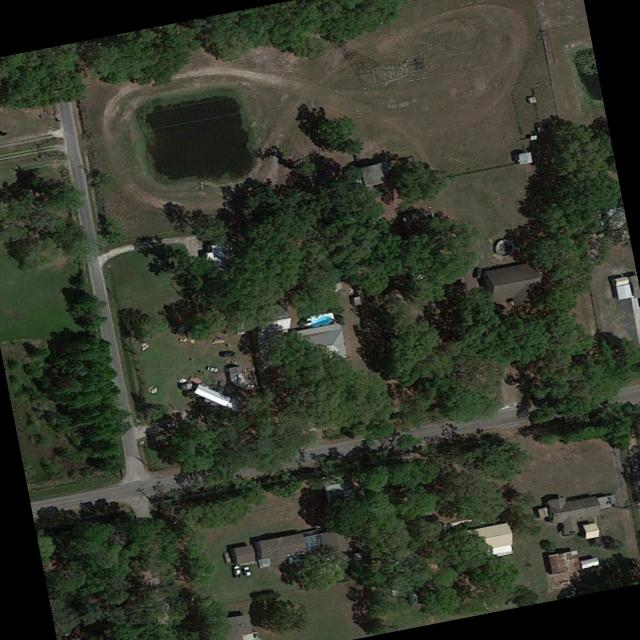small-vehicle: (232, 565, 241, 578), (241, 565, 250, 576), (205, 366, 218, 372), (222, 351, 234, 356)
